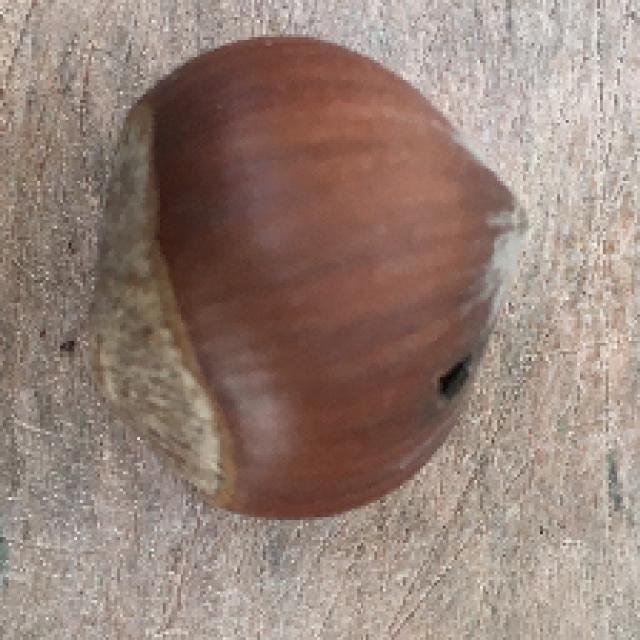DamagedHazelnut: (78, 37, 533, 520)
